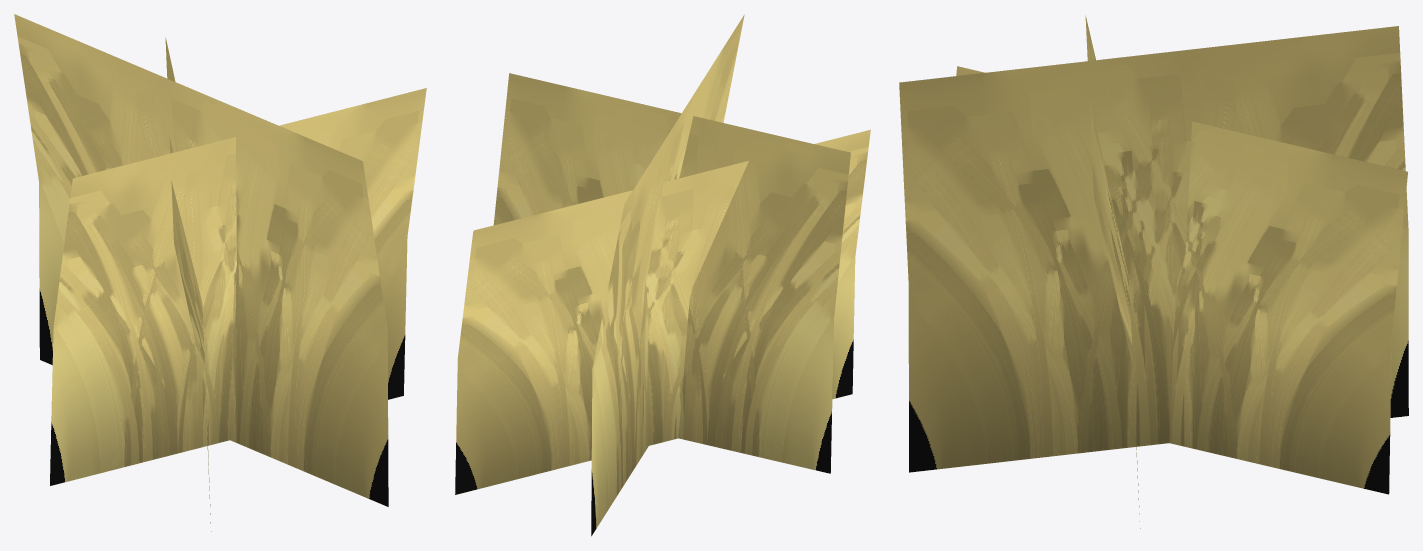
Rendered from desert_grass_1.glb.
3 renders of one model, left to right at view 1: azimuth 30°, elevation 25°; view 2: azimuth 150°, elevation 25°; view 3: azimuth 270°, elevation 25°, orthographic. The views are drawn at different scales.
Visible parts, largest first — view 1: desert_grass_1; view 2: desert_grass_1; view 3: desert_grass_1.
Part boxes in pixels (x1,y1,x2,y2): desert_grass_1: (14, 14, 426, 531); desert_grass_1: (455, 14, 870, 536); desert_grass_1: (899, 15, 1408, 528).
Bounding box in the file's own units: 0.5267 × 0.5005 × 0.6174.
Materials: 1 (1 with a texture image).
